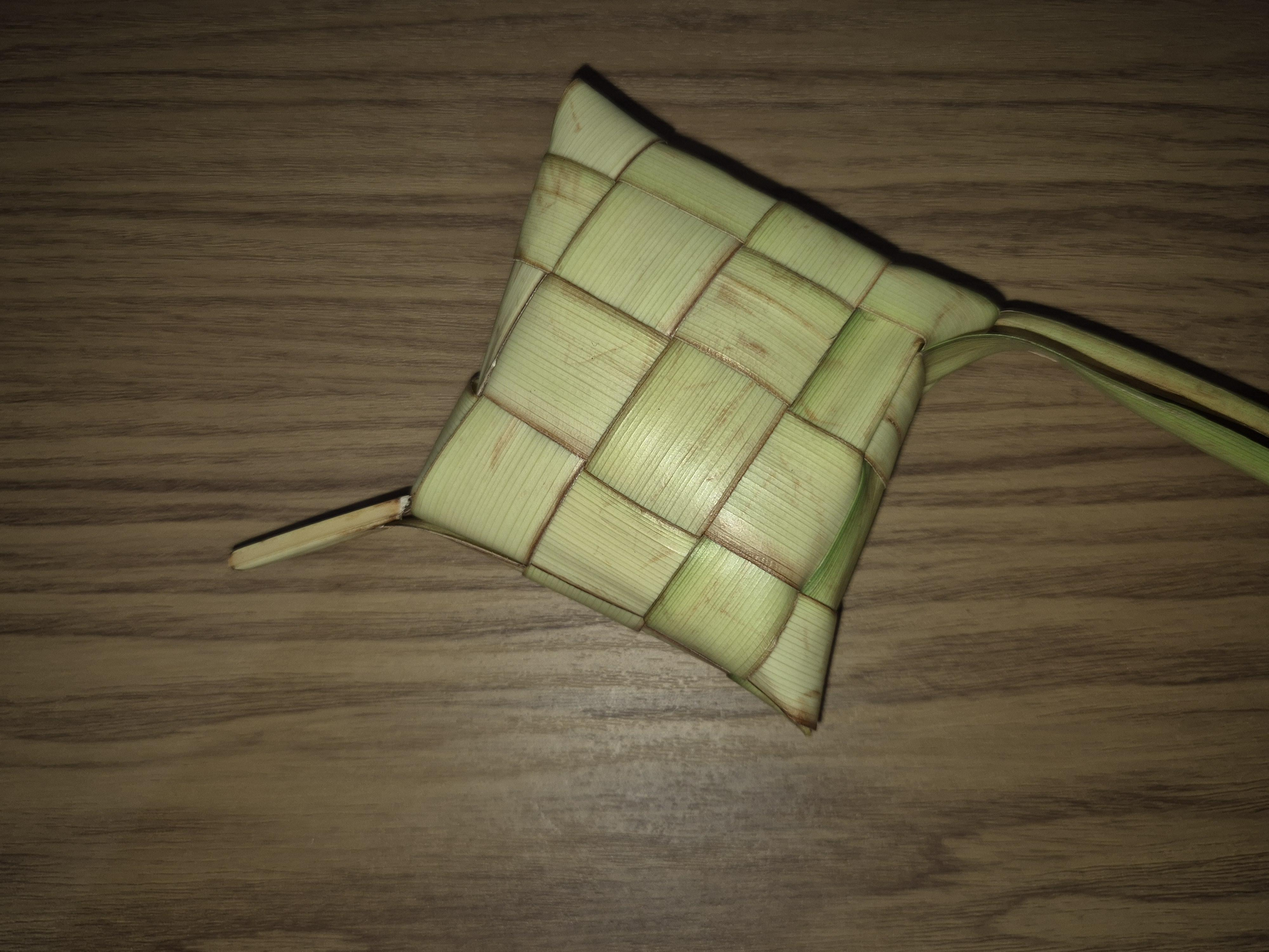Tipat Nasi: (110, 203, 972, 643)
